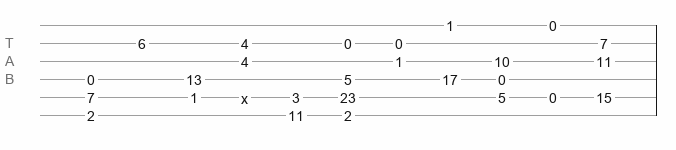0: (87, 72, 95, 82), (344, 36, 352, 46), (395, 36, 403, 46), (498, 72, 506, 82), (549, 90, 557, 100), (549, 18, 557, 28)
1: (190, 90, 198, 100), (395, 54, 403, 64), (446, 18, 454, 28)
10: (494, 54, 510, 64)
11: (288, 108, 304, 118), (596, 54, 612, 64)
13: (186, 72, 202, 82)
15: (596, 90, 612, 100)
17: (442, 72, 458, 82)
2: (87, 108, 95, 118), (344, 108, 352, 118)
23: (340, 90, 356, 100)
3: (292, 90, 300, 100)
4: (241, 54, 249, 64), (241, 36, 249, 46)
5: (344, 72, 352, 82), (498, 90, 506, 100)
6: (138, 36, 146, 46)
7: (87, 90, 95, 100), (600, 36, 608, 46)
x: (241, 91, 248, 99)
